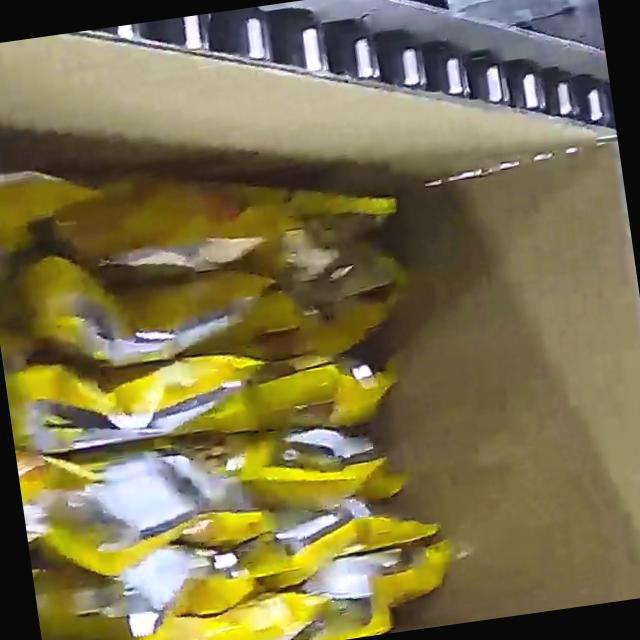salted: (0, 116, 477, 640)
